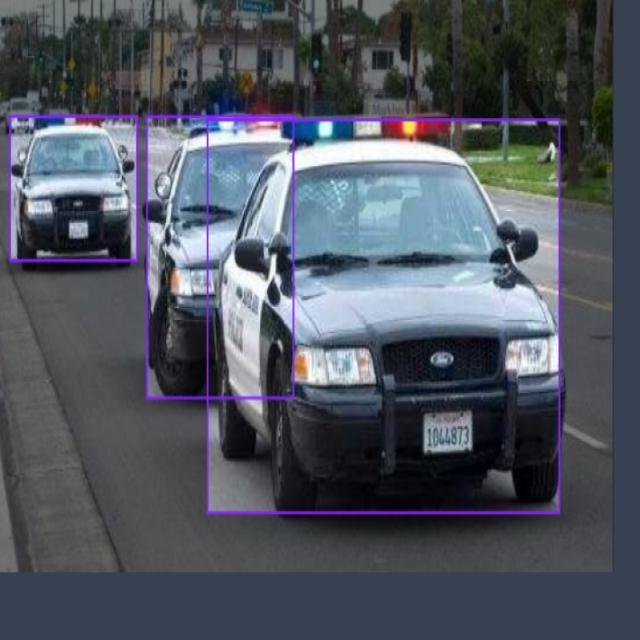police_car: (206, 120, 562, 528), (142, 118, 292, 398), (15, 116, 134, 264)
